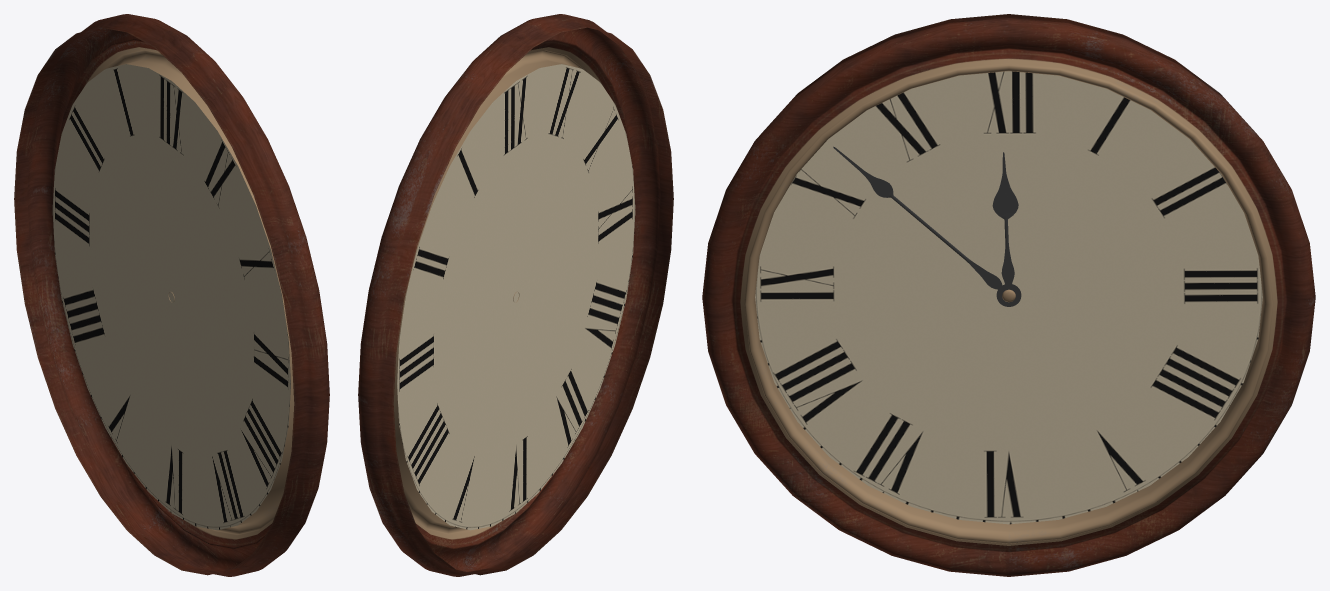
The model's file is Jam.fbx.
3 views of the same model, side by side, from view 1: azimuth 30°, elevation 25°; view 2: azimuth 150°, elevation 25°; view 3: azimuth 270°, elevation 25° (orthographic). The views are drawn at different scales.
Parts seen in each view (by area): view 1: Jam; view 2: Jam; view 3: Jam, Jarum Jam, Jarum Menit.
Part boxes in pixels (box(x1,y1,x2,y2)): Jam: box(14, 14, 329, 576); Jam: box(358, 14, 673, 576); Jam: box(702, 14, 1315, 576); Jarum Jam: box(992, 152, 1021, 306); Jarum Menit: box(833, 146, 1021, 302).
Bounding box in the file's own units: 0.0447 × 0.58 × 0.58.
Materials: 1 (1 with a texture image).
